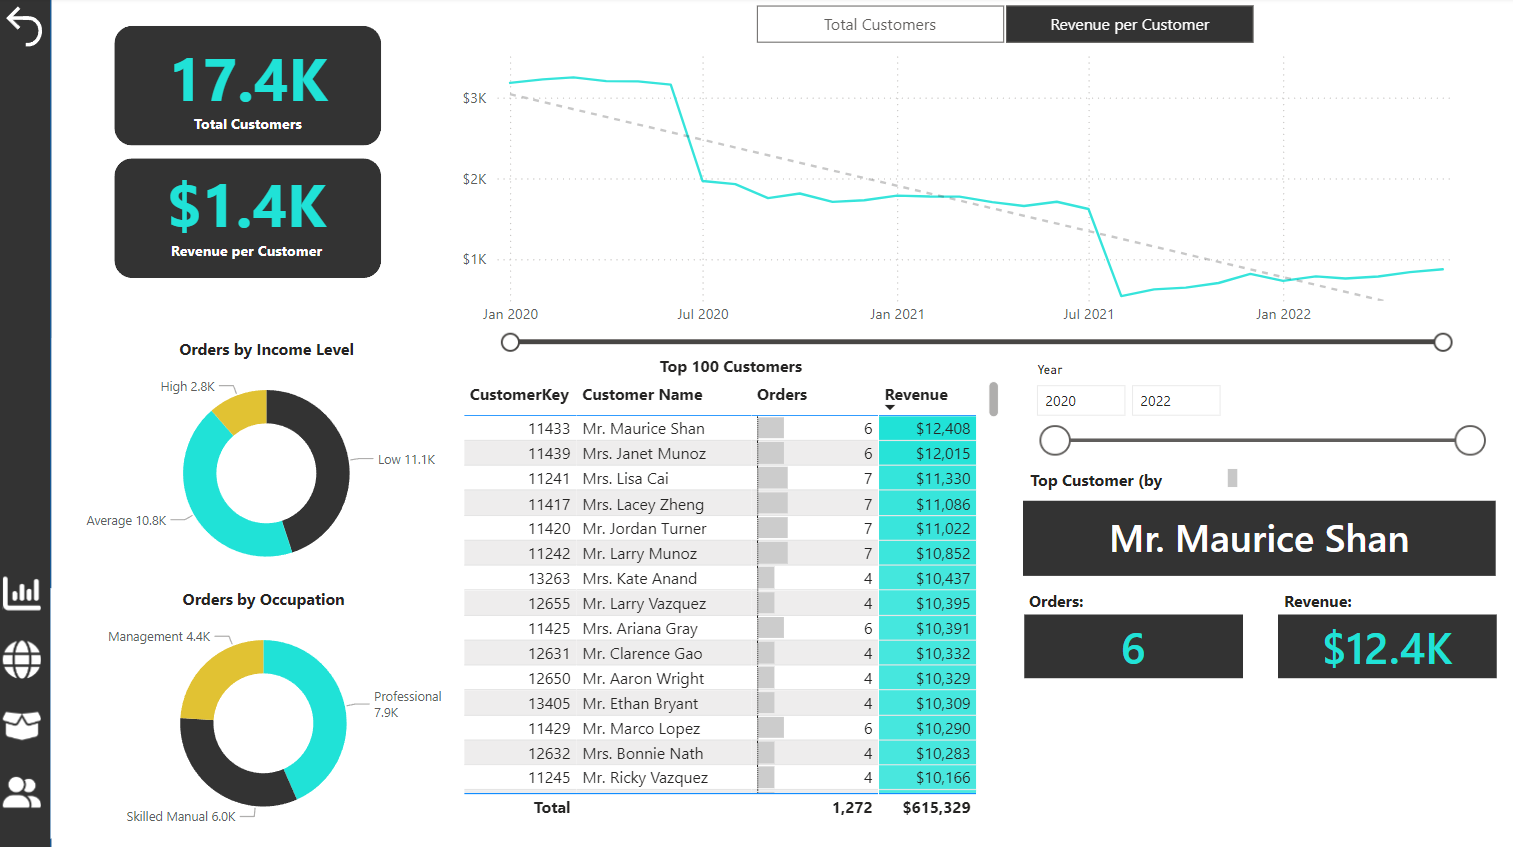

This screenshot's page, from the dashboard's own definition file:
{"tool":"powerbi","page":{"name":"Customer Detail","canvas":[1280,720],"ordinal":3},"visuals":[{"type":"shape","box":[0,0,45,720],"z":0},{"type":"card","fields":{"Values":["Measure Table.Full Name (Customer Detail)"]},"box":[862.6,423.6,397.9,63.1],"z":0,"group":"g1"},{"type":"shape","box":[97.3,24,224.5,100.9],"z":1000},{"type":"card","fields":{"Values":["Measure Table.Total Orders (Customer Detail)"]},"box":[862.9,519.5,183.8,53.8],"z":1000,"group":"g1"},{"type":"card","fields":{"Values":["Measure Table.Total Revenue (Customer Detail)"]},"box":[1076.7,519.7,183.9,53.5],"z":2000,"group":"g1"},{"type":"actionButton","box":[0,481.4,44.5,40.3],"z":2000},{"type":"textbox","box":[862.9,392.6,183.8,30.8],"z":3000,"group":"g1"},{"type":"shape","box":[97.3,135.7,224.5,100.9],"z":3000},{"type":"textbox","box":[862.1,494.1,183.8,30.8],"z":4000,"group":"g1"},{"type":"actionButton","box":[0,592.7,44.5,40.3],"z":4000},{"type":"card","title":"hdbdb","fields":{"Values":["Measure Table.Total Customers"]},"box":[121.3,28.8,178.9,91.3],"z":5000},{"type":"textbox","box":[1076.7,494.1,183.8,30.8],"z":5000,"group":"g1"},{"type":"actionButton","box":[0,648.3,44.5,40.3],"z":6000},{"type":"card","fields":{"Values":["Measure Table.Revenue per Customer"]},"box":[121.3,135.7,176.5,90.1],"z":7000},{"type":"actionButton","box":[0,537,44.5,40.3],"z":8000},{"type":"donutChart","title":"Orders by Income Level","fields":{"Category":["Customer Lookup.Income Level"],"Y":["Measure Table.Total Orders"]},"box":[45.7,287.1,361.4,210],"z":9000},{"type":"donutChart","title":"Orders by Occupation","fields":{"Category":["Customer Lookup.Occupation"],"Y":["Measure Table.Total Orders"]},"box":[44.3,497.1,358.6,210],"z":10000},{"type":"lineChart","fields":{"Y":["Measure Table.Revenue per Customer"],"Category":["Calendar Lookup.Date Hierarchy.Start of Year","Calendar Lookup.Date Hierarchy.Start of Month","Calendar Lookup.Date Hierarchy.Start of Week","Calendar Lookup.Date Hierarchy.Date"]},"box":[385.5,37.1,858.6,264],"z":11000},{"type":"tableEx","title":"Top 100 Customers","fields":{"Values":["Customer Lookup.CustomerKey","Customer Lookup.Full Name","Measure Table.Total Orders","Measure Table.Total Revenue"]},"box":[385.6,300.5,461.1,395.2],"z":12000},{"type":"group","id":"g1","title":"Group 1","box":[862.1,392.6,398.6,181.3],"z":13000},{"type":"slicer","fields":{"Values":["Calendar Lookup.Start of Year.Variation.Date Hierarchy.Year"]},"box":[860.9,301.4,398.6,91.3],"z":14000},{"type":"actionButton","box":[0,0,44.5,50.1],"z":15000},{"type":"slicer","fields":{"Values":["Customer Metric Selection.Customer Metric Selection"]},"box":[611.8,0,468.2,45.5],"z":15001}]}

Visuals, with their boxes on the page's 1280x720 design canvas (x1, y1, x2, y2). These are canvas units, not pixel positions in the 1513x847 screenshot, which may show the page scaled, cropped or inside an application window:
shape: 0 0 45 720
card - Measure Table.Full Name (Customer Detail): 863 424 1260 487
shape: 97 24 322 125
card - Measure Table.Total Orders (Customer Detail): 863 520 1047 573
card - Measure Table.Total Revenue (Customer Detail): 1077 520 1261 573
actionButton: 0 481 44 522
textbox: 863 393 1047 423
shape: 97 136 322 237
textbox: 862 494 1046 525
actionButton: 0 593 44 633
"hdbdb" card: 121 29 300 120
textbox: 1077 494 1260 525
actionButton: 0 648 44 689
card - Measure Table.Revenue per Customer: 121 136 298 226
actionButton: 0 537 44 577
"Orders by Income Level" donutChart: 46 287 407 497
"Orders by Occupation" donutChart: 44 497 403 707
lineChart - Measure Table.Revenue per Customer x Calendar Lookup.Date Hierarchy.Start of Year: 386 37 1244 301
"Top 100 Customers" tableEx: 386 300 847 696
"Group 1" group: 862 393 1261 574
slicer - Calendar Lookup.Start of Year.Variation.Date Hierarchy.Year: 861 301 1260 393
actionButton: 0 0 44 50
slicer - Customer Metric Selection.Customer Metric Selection: 612 0 1080 46
